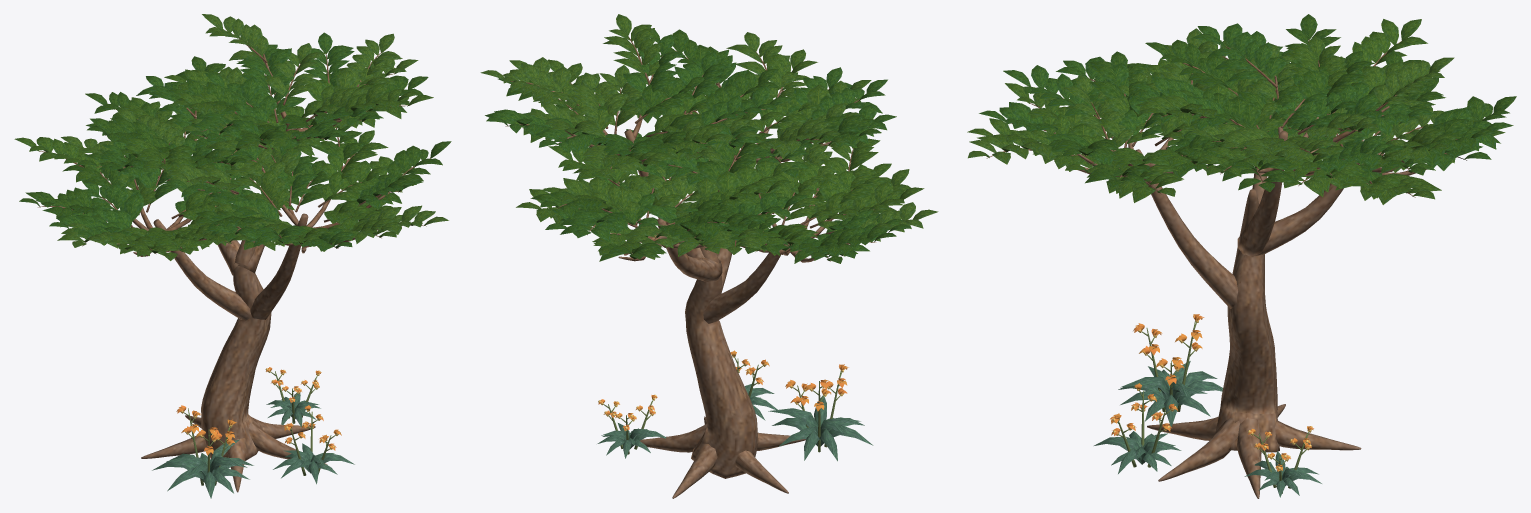
File: desert_tree.glb
3 renders of one model, left to right at view 1: azimuth 30°, elevation 25°; view 2: azimuth 150°, elevation 25°; view 3: azimuth 270°, elevation 25°, orthographic. The views are drawn at different scales.
Parts seen in each view (by area): view 1: Layered sage canopy, Twisted trunk and branches, Root rosettes, Small golden flowers, Flower stems; view 2: Layered sage canopy, Twisted trunk and branches, Root rosettes, Small golden flowers, Flower stems; view 3: Layered sage canopy, Twisted trunk and branches, Root rosettes, Small golden flowers, Flower stems.
Boxes of the visible parts, box(x1,y1,x2,y2) form: Layered sage canopy: box(14, 14, 451, 260); Twisted trunk and branches: box(38, 38, 430, 492); Root rosettes: box(152, 393, 354, 498); Small golden flowers: box(176, 367, 341, 455); Flower stems: box(183, 371, 335, 485); Layered sage canopy: box(480, 14, 938, 263); Twisted trunk and branches: box(505, 36, 876, 498); Root rosettes: box(597, 383, 873, 461); Small golden flowers: box(598, 350, 848, 430); Flower stems: box(603, 356, 842, 454); Layered sage canopy: box(967, 14, 1516, 204); Twisted trunk and branches: box(986, 39, 1466, 498); Root rosettes: box(1094, 361, 1321, 497); Small golden flowers: box(1110, 314, 1313, 471); Flower stems: box(1117, 320, 1309, 493).
Size of the model in its own units: 4.6 by 4.09 by 4.72.
Materials: 6 (3 with a texture image).
